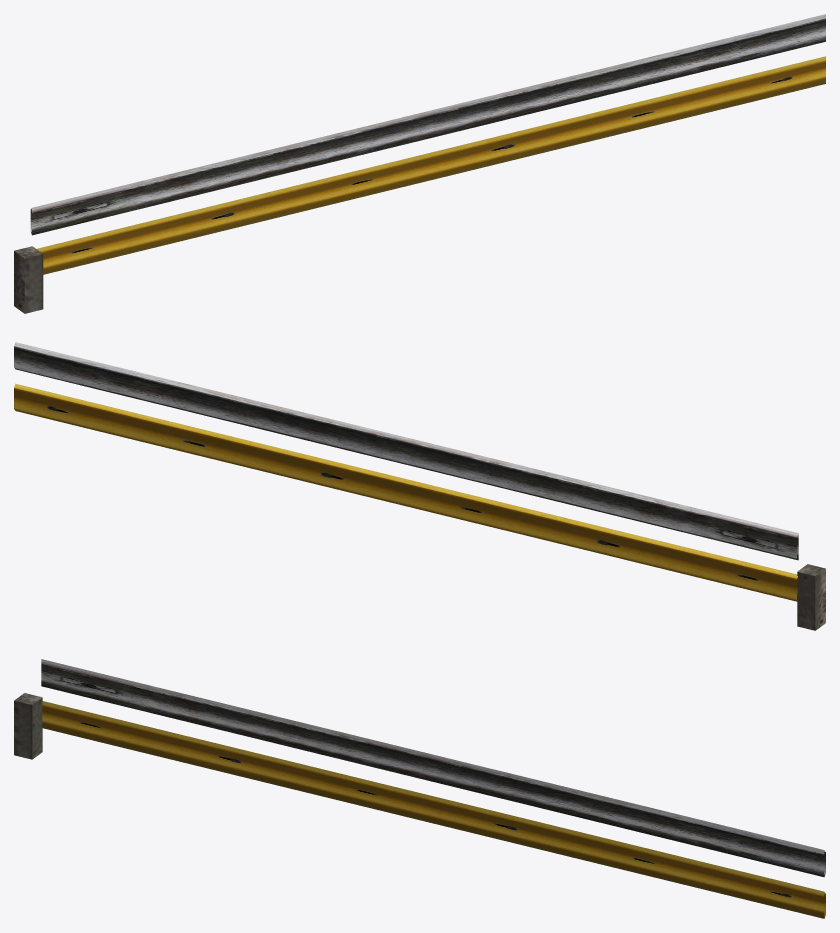
File: hulan.fbx
3 views of the same model, one above another, from view 1: azimuth 30°, elevation 25°; view 2: azimuth 150°, elevation 25°; view 3: azimuth 330°, elevation 25° (orthographic).
Visible parts, largest first — view 1: rail, post; view 2: rail, post; view 3: rail, post.
Boxes of the visible parts, x1,y1,x2,y2 form: rail: (30, 14, 825, 274); post: (14, 246, 43, 313); rail: (14, 342, 798, 601); post: (797, 564, 825, 630); rail: (41, 659, 825, 918); post: (14, 693, 42, 759).
Bounding box in the file's own units: 3.07 × 0.3409 × 0.0768.
Materials: 1 (1 with a texture image).
